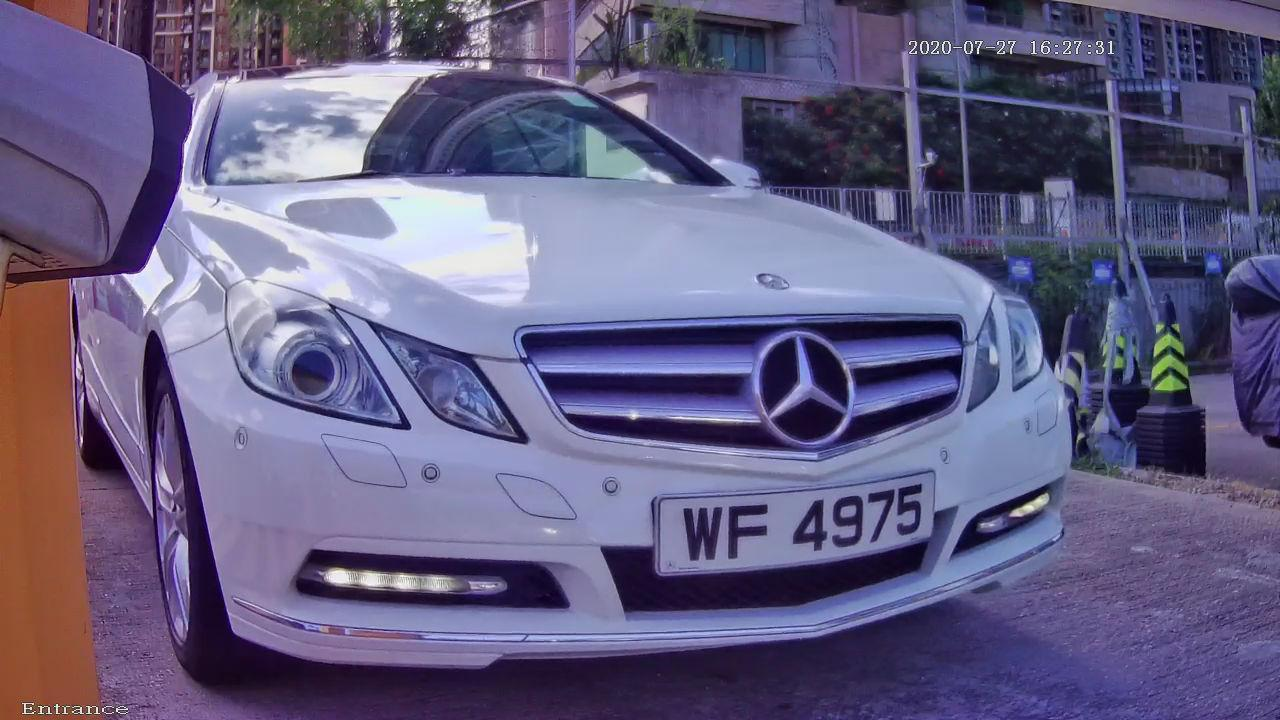privatecar: (69, 10, 1149, 692)
